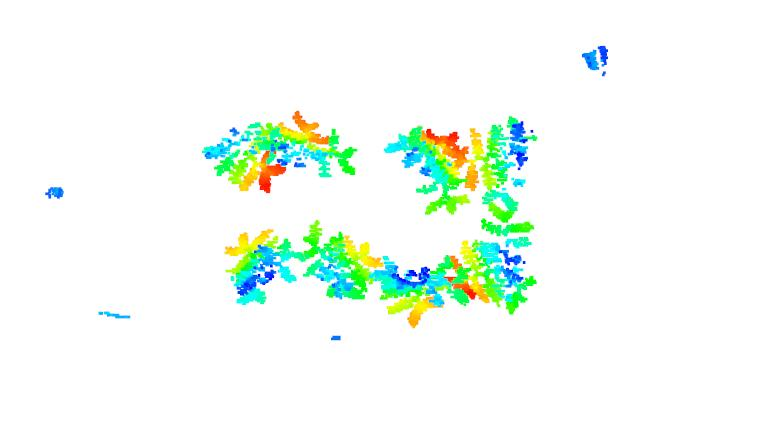chickpea: (450, 205, 541, 316), (294, 222, 382, 310), (386, 124, 470, 215), (386, 249, 472, 332), (466, 112, 540, 207), (219, 227, 298, 311), (201, 124, 287, 196), (286, 110, 362, 190)
